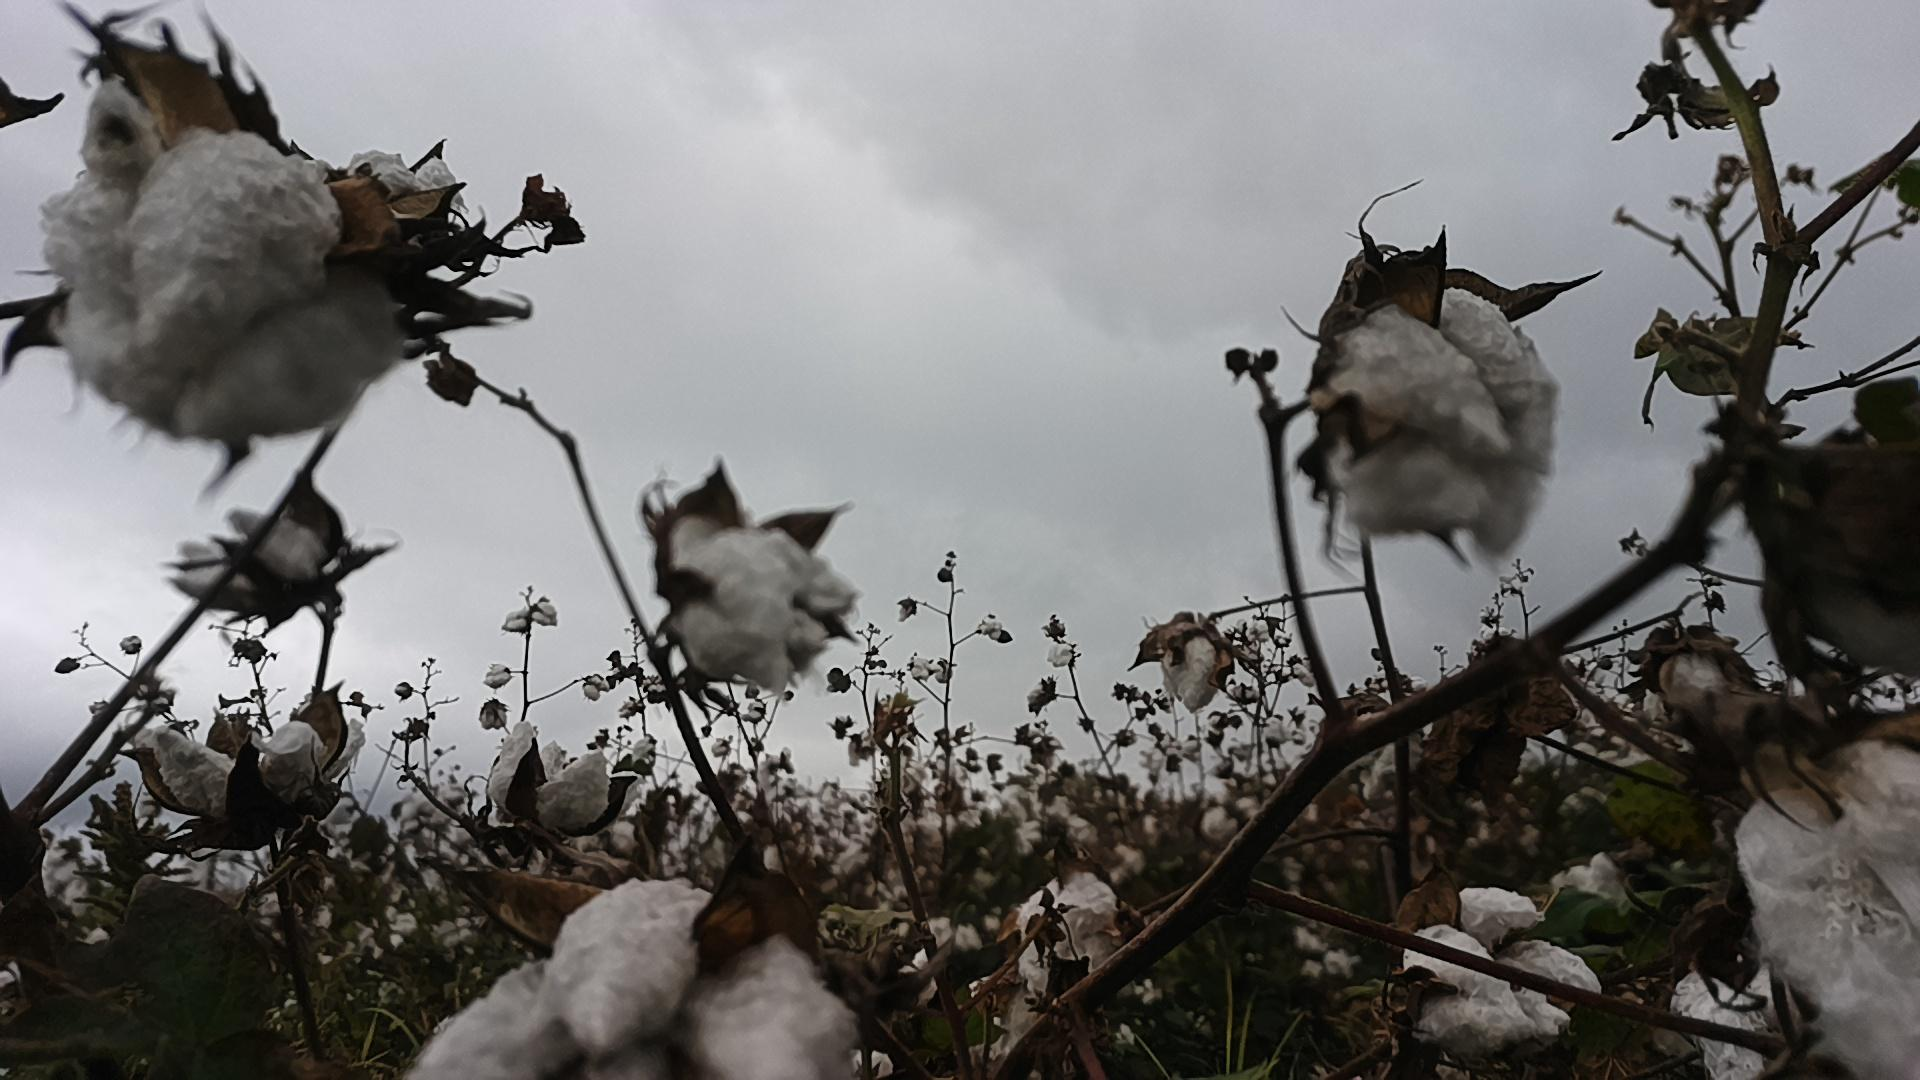cotton_ready: (40, 86, 407, 446), (398, 881, 860, 1080), (1333, 269, 1564, 563), (1730, 741, 1920, 1080), (663, 513, 858, 691), (1400, 886, 1600, 1048), (136, 695, 371, 820), (488, 715, 650, 843), (1673, 963, 1812, 1080), (170, 506, 331, 603), (1018, 873, 1122, 1006), (1635, 638, 1749, 738), (348, 141, 468, 215), (1158, 625, 1232, 713), (1545, 853, 1630, 915)
